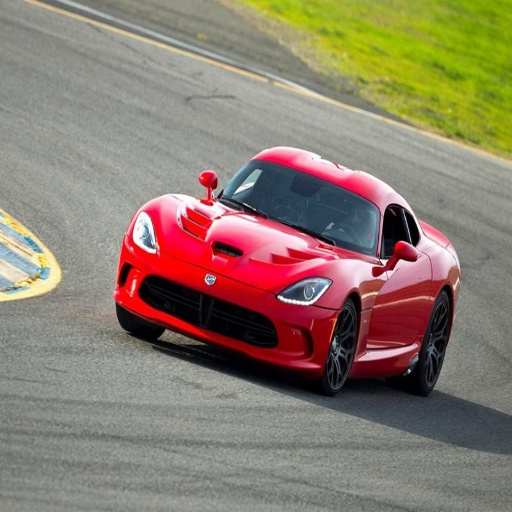front_bumper: (270, 309, 333, 369)
front_glass: (232, 162, 374, 245)
front_left_door: (370, 202, 410, 349)
trunk: (134, 200, 272, 306)
